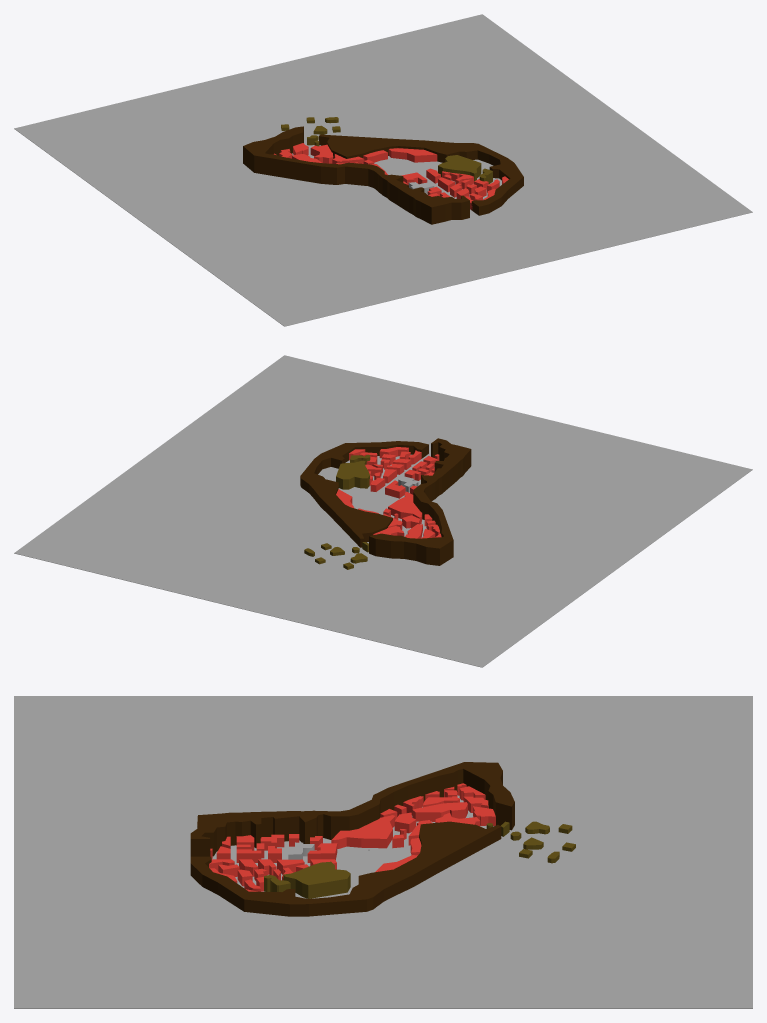
The model's file is lvl2_blockout.fbx.
The picture shows the model from 3 angles, top to bottom: view 1: azimuth 30°, elevation 25°; view 2: azimuth 150°, elevation 25°; view 3: azimuth 270°, elevation 25°; orthographic projection. The views are drawn at different scales.
Visible parts, largest first — view 1: plane, wall_02, wall_01, home, rocks; view 2: plane, wall_02, home, wall_01, rocks; view 3: plane, home, wall_02, wall_01, rocks.
Part boxes in pixels (x1,y1,x2,y2): plane: (14, 14, 752, 326); wall_02: (243, 126, 469, 224); wall_01: (319, 134, 523, 215); home: (274, 143, 508, 209); rocks: (281, 117, 492, 183); plane: (14, 355, 752, 667); wall_02: (369, 438, 471, 565); home: (336, 447, 441, 538); wall_01: (300, 441, 428, 547); rocks: (304, 454, 370, 569); plane: (14, 696, 752, 1008); home: (209, 783, 495, 891); wall_02: (190, 762, 514, 856); wall_01: (190, 821, 501, 916); rocks: (264, 821, 575, 898).
Size of the model in its own units: 610 by 32.02 by 610.
